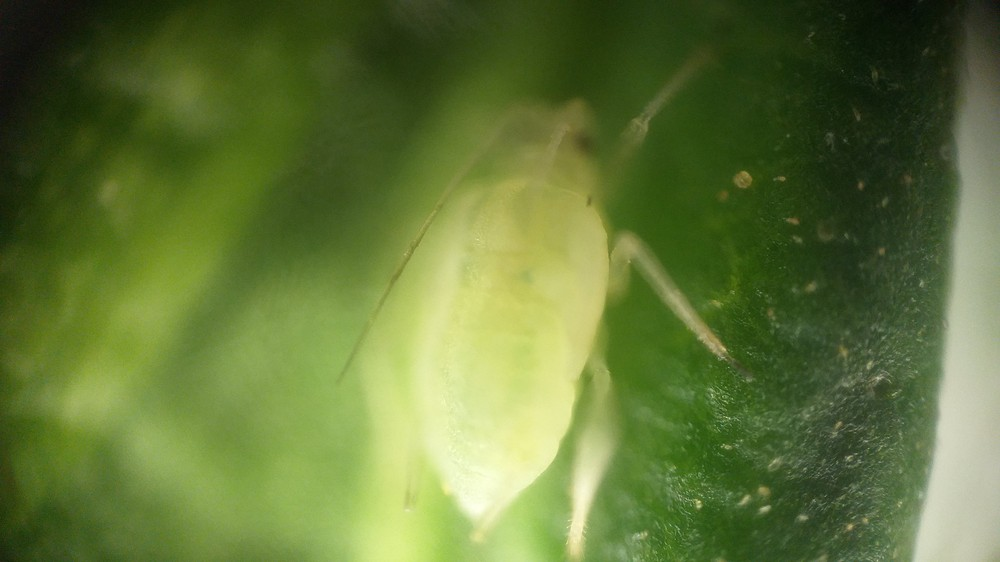Pulgon: (333, 37, 743, 554)
